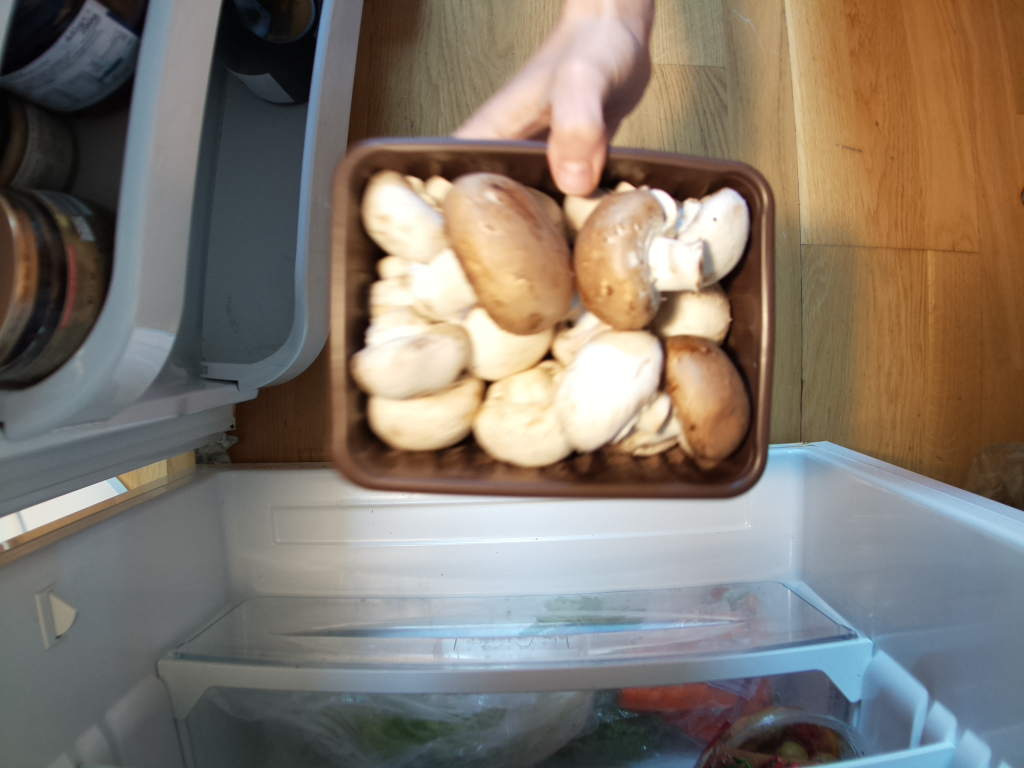mushrooms: (325, 139, 780, 497)
